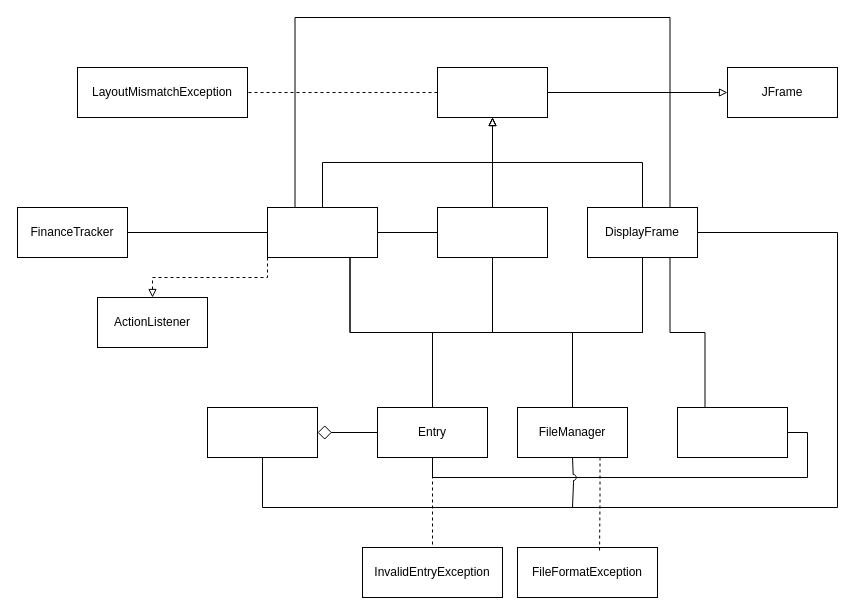
Some shapes in this 856 by 615 pixel diagram are drawn without their labels. The shapes that lost their labels are listed below. From the top down, each one's centre as x and y in pixels, then its label:
the point at 492,92: AppFrame
the point at 322,232: MainFrame
the point at 492,232: EntryFrame
the point at 262,432: Entires
the point at 732,432: SelectionMap
